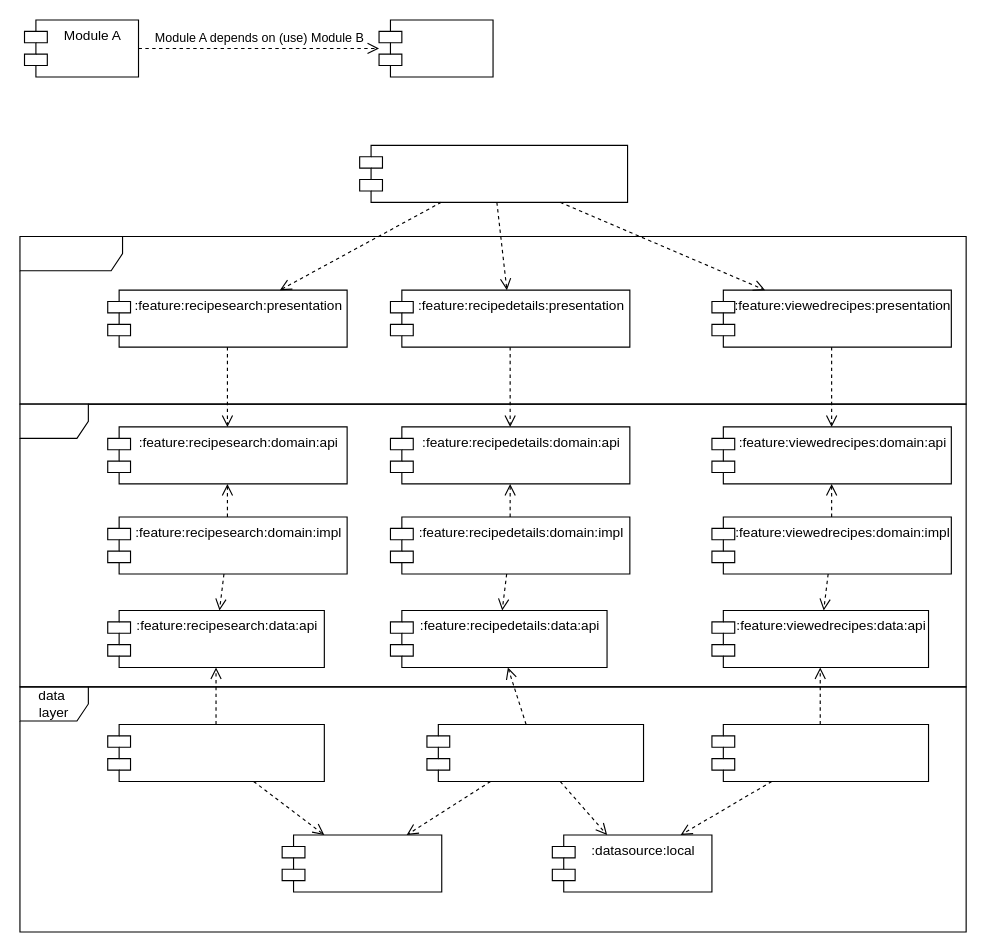
Some shapes in this 986 by 952 pixel diagram are drawn without their labels. Each missing label, with the centre of its shape:
":datasource:remote" belongs at point 361,863.
":feature:mainnavigation:mainactivity" belongs at point 493,173.
":feature:recipedetails:data:impl" belongs at point 535,752.
":feature:recipesearch:data:impl" belongs at point 215,752.
":feature:viewedrecipes:data:impl" belongs at point 820,752.
"domain layer" belongs at point 492,545.
"Module B" belongs at point 435,48.
"presentation layer" belongs at point 492,319.
